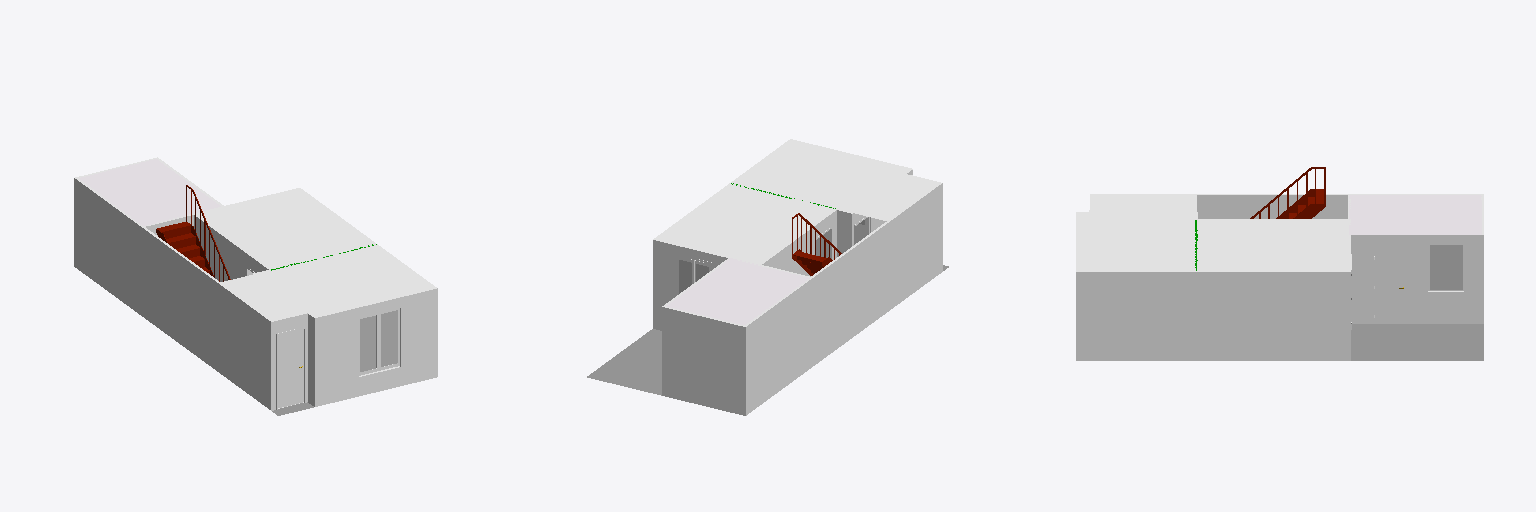
Rendered from tryname.obj.
3 views of the same model, side by side, from view 1: azimuth 30°, elevation 25°; view 2: azimuth 150°, elevation 25°; view 3: azimuth 270°, elevation 25° (orthographic).
Visible parts, largest first — view 1: wall_14_69, wall_10_54, room_2_188, room_3_190, wall_3_15, room_1_186, Porte_102, room_4_192, wall_7_39, wall_13_63, sweethome3d_window_pane_173, sweethome3d_window_pane_1_180 (+2 smaller); view 2: wall_14_69, room_2_188, wall_1_3, room_3_190, wall_3_15, room_1_186, ground_1, wall_4_21, room_4_192, wall_7_39, wall_9_48; view 3: wall_5_27, wall_11_60, room_2_188, wall_2_9, room_3_190, room_1_186, ground_1, wall_14_72, Porte_127, room_4_192, sweethome3d_window_pane_122.
Part boxes in pixels (x1,y1,x2,y2): wall_14_69: (141,228,270,409); wall_10_54: (315,288,437,406); room_2_188: (197,189,374,268); room_3_190: (257,245,432,316); wall_3_15: (74,178,141,315); room_1_186: (79,159,220,225); Porte_102: (278,329,303,407); room_4_192: (220,274,304,319); wall_7_39: (194,215,268,281); wall_13_63: (271,313,307,410); sweethome3d_window_pane_173: (381,310,397,366); sweethome3d_window_pane_1_180: (360,316,375,371); wall_14_69: (813,183,942,365); room_2_188: (658,184,836,264); wall_1_3: (662,307,745,415); room_3_190: (734,141,910,212); wall_3_15: (746,278,812,415); room_1_186: (667,258,809,324); ground_1: (587,265,948,395); wall_4_21: (653,240,727,330); room_4_192: (853,175,937,220); wall_7_39: (762,210,836,276); wall_9_48: (837,210,851,256); wall_5_27: (1195,272,1350,360); wall_11_60: (1076,272,1196,360); room_2_188: (1197,220,1348,270); wall_2_9: (1351,235,1483,323); room_3_190: (1078,213,1195,270); room_1_186: (1349,195,1481,234); ground_1: (1351,324,1483,360); wall_14_72: (1197,195,1347,218); Porte_127: (1374,250,1405,323); room_4_192: (1091,195,1196,211); sweethome3d_window_pane_122: (1430,245,1462,289).
Bounding box in the file's own units: 457 × 362 × 1015.